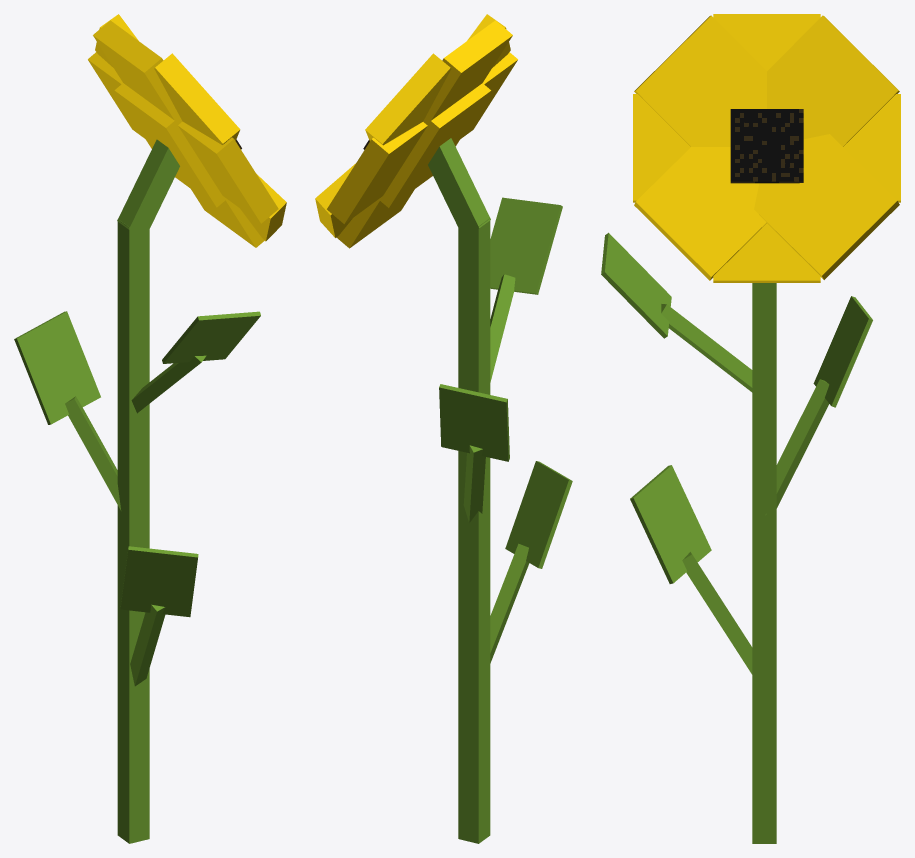
Rendered from sunflower.gltf.
3 views of the same model, side by side, from view 1: azimuth 30°, elevation 25°; view 2: azimuth 150°, elevation 25°; view 3: azimuth 270°, elevation 25° (orthographic). The views are drawn at different scales.
Parts seen in each view (by area): view 1: 2f95a8cc-bbbc-db35-044c-f79740e91d66, 3b1a7608-53c4-af62-febc-fd05c231e23b, fb4f10db-031a-c53a-c5c2-0aac2ff49b2d, 08eeee49-d1c8-8403-e501-237fbcf2336f, 923728d6-7e14-abfe-4ef2-f1e9526024a1, 52942585-3229-d97f-2636-427560c31cca, 6e9d4138-4100-a9bb-bcc9-680ca79e0740, 3d3684a8-469f-cd9f-9ad0-0c3af5637bec, 1c1d66ed-9e6c-5e8b-8d97-fb99c0bffa9e, 5f7cde42-c6fc-0e75-28b9-ba564dd4921e, 4a72571e-9fbe-2ec7-f372-8be7525caeb4, 3a6cfa20-1c8c-8196-f0b9-668acd8f6ec1 (+1 smaller); view 2: 2f95a8cc-bbbc-db35-044c-f79740e91d66, 3d3684a8-469f-cd9f-9ad0-0c3af5637bec, fb4f10db-031a-c53a-c5c2-0aac2ff49b2d, 08eeee49-d1c8-8403-e501-237fbcf2336f, 3b1a7608-53c4-af62-febc-fd05c231e23b, 923728d6-7e14-abfe-4ef2-f1e9526024a1, 52942585-3229-d97f-2636-427560c31cca, 5e36d5f6-5c8c-c5db-3223-4b51d02703ab, 1c1d66ed-9e6c-5e8b-8d97-fb99c0bffa9e, 4a72571e-9fbe-2ec7-f372-8be7525caeb4, 5f7cde42-c6fc-0e75-28b9-ba564dd4921e, 3a6cfa20-1c8c-8196-f0b9-668acd8f6ec1 (+1 smaller); view 3: 2f95a8cc-bbbc-db35-044c-f79740e91d66, 0cba9fad-0adc-b3a2-8696-2442c2e0c0a3, 6e9d4138-4100-a9bb-bcc9-680ca79e0740, 70e2d5b8-fb36-3673-6394-4382a56b1b57, 5e36d5f6-5c8c-c5db-3223-4b51d02703ab, 08eeee49-d1c8-8403-e501-237fbcf2336f, fb4f10db-031a-c53a-c5c2-0aac2ff49b2d, 76d5f1e0-da0c-5dad-d6c1-a25b473d68ca, 923728d6-7e14-abfe-4ef2-f1e9526024a1, 3d3684a8-469f-cd9f-9ad0-0c3af5637bec, 3b1a7608-53c4-af62-febc-fd05c231e23b, 5f7cde42-c6fc-0e75-28b9-ba564dd4921e (+2 smaller).
Part boxes in pixels (x1,y1,x2,y2): 2f95a8cc-bbbc-db35-044c-f79740e91d66: (117, 219, 149, 843); 3b1a7608-53c4-af62-febc-fd05c231e23b: (14, 311, 100, 424); fb4f10db-031a-c53a-c5c2-0aac2ff49b2d: (88, 52, 278, 223); 08eeee49-d1c8-8403-e501-237fbcf2336f: (93, 20, 264, 247); 923728d6-7e14-abfe-4ef2-f1e9526024a1: (120, 546, 198, 617); 52942585-3229-d97f-2636-427560c31cca: (114, 83, 226, 207); 6e9d4138-4100-a9bb-bcc9-680ca79e0740: (154, 53, 240, 144); 3d3684a8-469f-cd9f-9ad0-0c3af5637bec: (162, 311, 260, 363); 1c1d66ed-9e6c-5e8b-8d97-fb99c0bffa9e: (117, 139, 179, 235); 5f7cde42-c6fc-0e75-28b9-ba564dd4921e: (65, 396, 121, 510); 4a72571e-9fbe-2ec7-f372-8be7525caeb4: (130, 604, 165, 686); 3a6cfa20-1c8c-8196-f0b9-668acd8f6ec1: (131, 355, 206, 413); 2f95a8cc-bbbc-db35-044c-f79740e91d66: (458, 218, 490, 843); 3d3684a8-469f-cd9f-9ad0-0c3af5637bec: (490, 197, 562, 294); fb4f10db-031a-c53a-c5c2-0aac2ff49b2d: (327, 52, 517, 224); 08eeee49-d1c8-8403-e501-237fbcf2336f: (336, 20, 512, 248); 3b1a7608-53c4-af62-febc-fd05c231e23b: (439, 384, 509, 461); 923728d6-7e14-abfe-4ef2-f1e9526024a1: (505, 461, 572, 568); 52942585-3229-d97f-2636-427560c31cca: (379, 83, 491, 207); 5e36d5f6-5c8c-c5db-3223-4b51d02703ab: (365, 53, 451, 145); 1c1d66ed-9e6c-5e8b-8d97-fb99c0bffa9e: (428, 138, 490, 234); 4a72571e-9fbe-2ec7-f372-8be7525caeb4: (490, 543, 529, 663); 5f7cde42-c6fc-0e75-28b9-ba564dd4921e: (463, 445, 485, 522); 3a6cfa20-1c8c-8196-f0b9-668acd8f6ec1: (490, 274, 515, 382); 2f95a8cc-bbbc-db35-044c-f79740e91d66: (752, 283, 776, 843); 0cba9fad-0adc-b3a2-8696-2442c2e0c0a3: (754, 134, 899, 279); 6e9d4138-4100-a9bb-bcc9-680ca79e0740: (634, 15, 766, 146); 70e2d5b8-fb36-3673-6394-4382a56b1b57: (634, 147, 766, 280); 5e36d5f6-5c8c-c5db-3223-4b51d02703ab: (767, 15, 899, 146); 08eeee49-d1c8-8403-e501-237fbcf2336f: (713, 14, 820, 282); fb4f10db-031a-c53a-c5c2-0aac2ff49b2d: (633, 94, 900, 202); 76d5f1e0-da0c-5dad-d6c1-a25b473d68ca: (730, 109, 803, 183); 923728d6-7e14-abfe-4ef2-f1e9526024a1: (630, 465, 711, 583); 3d3684a8-469f-cd9f-9ad0-0c3af5637bec: (601, 232, 671, 338); 3b1a7608-53c4-af62-febc-fd05c231e23b: (813, 296, 872, 407); 5f7cde42-c6fc-0e75-28b9-ba564dd4921e: (765, 379, 829, 515).
Size of the model in its own units: 0.6226 by 2.35 by 0.7697.
3 materials, 3 textured.
